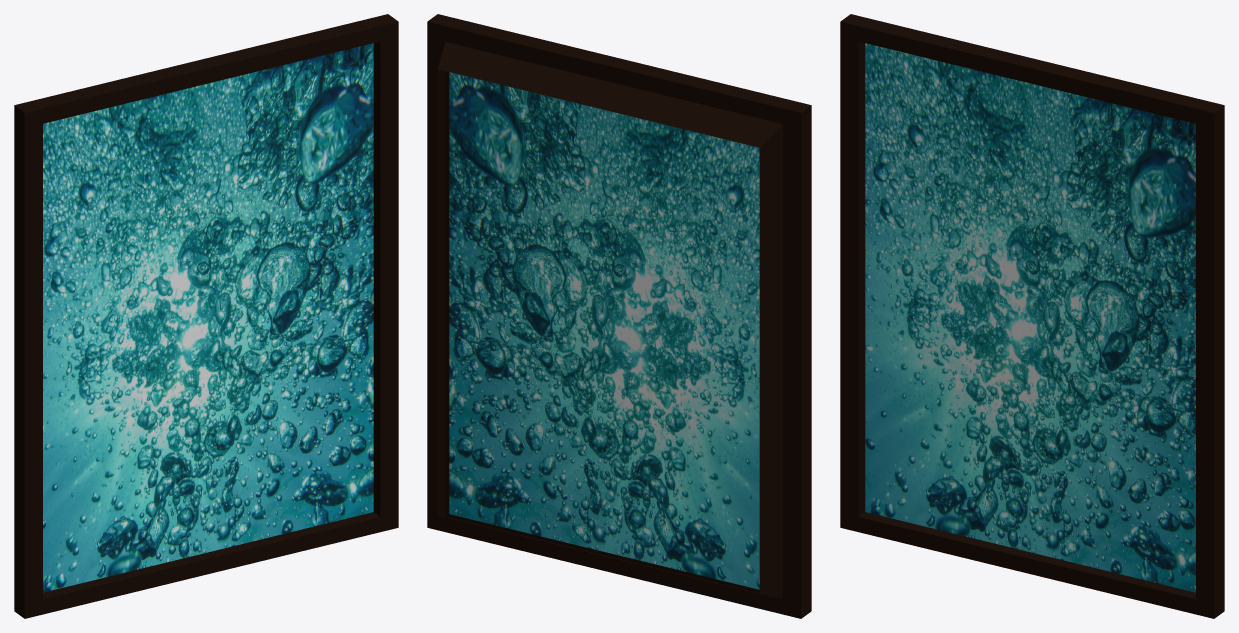
Rendered from waterframe.obj.
3 renders of one model, left to right at view 1: azimuth 30°, elevation 25°; view 2: azimuth 150°, elevation 25°; view 3: azimuth 330°, elevation 25°, orthographic.
Parts seen in each view (by area): view 1: house_interior:Box038 group1; view 2: house_interior:Box038 group1; view 3: house_interior:Box038 group1.
Boxes of the visible parts, box(x1,y1,x2,y2) form: house_interior:Box038 group1: box(14, 14, 398, 618); house_interior:Box038 group1: box(427, 14, 811, 618); house_interior:Box038 group1: box(840, 14, 1224, 618).
Size of the model in its own units: 1.68 by 2.17 by 0.2033.
2 materials, 1 textured.
